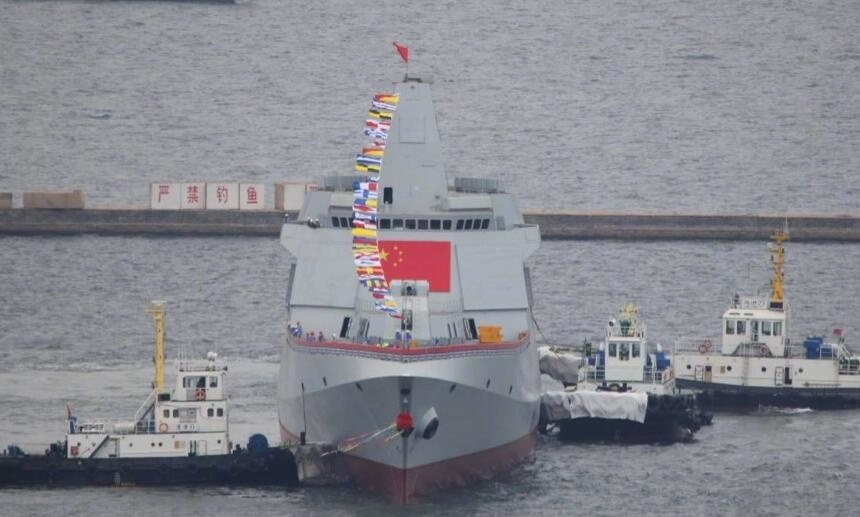otherboat: (5, 342, 297, 489), (668, 225, 860, 409), (544, 303, 697, 446)
warship: (271, 54, 542, 483)
